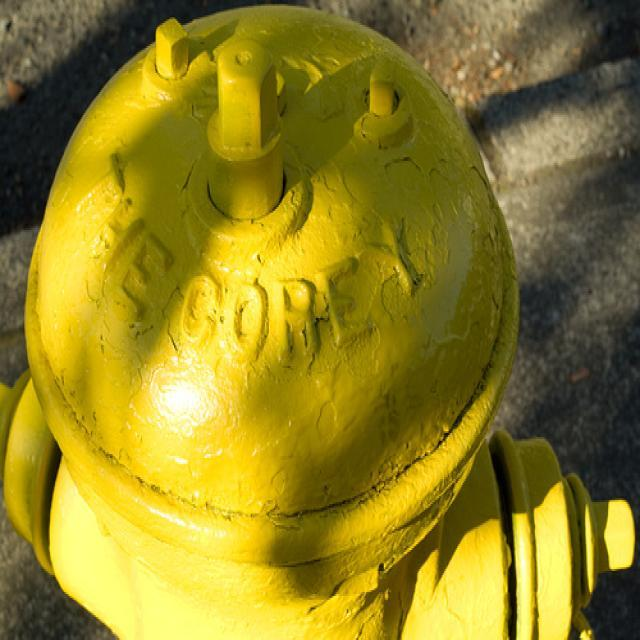fire_hydrant: (0, 4, 635, 628)
